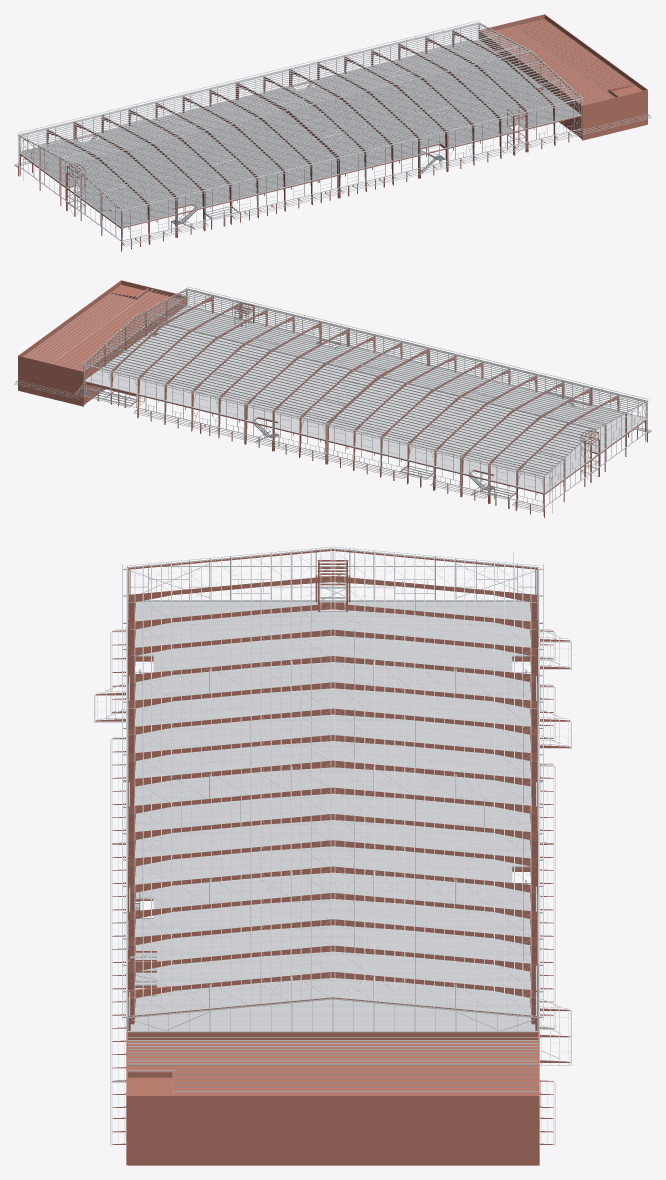
Rendered from xinhai-tekla.glb.
3 views of the same model, one above another, from view 1: azimuth 30°, elevation 25°; view 2: azimuth 150°, elevation 25°; view 3: azimuth 270°, elevation 25° (orthographic). The views are drawn at different scales.
Parts seen in each view (by area): view 1: TK|keo|19, TK|giang|0, TK|giang|9, TK|giang|17, TK|deck|1, TK|giang|4, TK|giang|13, TK|giang|15, TK|giang|1, TK|deck|11, TK|giang|3, TK|giang|16 (+32 smaller); view 2: TK|keo|19, TK|giang|0, TK|giang|9, TK|giang|10, TK|giang|17, TK|deck|1, TK|giang|4, TK|giang|1, TK|giang|13, TK|deck|11, TK|giang|16, TK|giang|2 (+32 smaller); view 3: TK|keo|19, TK|deck|16, TK|deck|1, TK|deck|11, TK|deck|7, TK|deck|4, TK|deck|5, TK|deck|13, TK|deck|3, TK|deck|10, TK|deck|9, TK|deck|0 (+43 smaller).
Part boxes in pixels (left/top/right/bottom): TK|keo|19: left=480, top=14, right=649, bottom=140; TK|giang|0: left=14, top=126, right=156, bottom=246; TK|giang|9: left=20, top=23, right=581, bottom=210; TK|giang|17: left=444, top=21, right=586, bottom=140; TK|deck|1: left=46, top=139, right=175, bottom=220; TK|giang|4: left=121, top=99, right=264, bottom=219; TK|giang|13: left=343, top=47, right=479, bottom=166; TK|giang|15: left=397, top=34, right=533, bottom=153; TK|giang|1: left=39, top=119, right=181, bottom=239; TK|deck|11: left=288, top=79, right=417, bottom=161; TK|giang|3: left=93, top=106, right=239, bottom=229; TK|giang|16: left=417, top=27, right=558, bottom=147; TK|keo|19: left=16, top=280, right=185, bottom=406; TK|giang|0: left=509, top=392, right=651, bottom=512; TK|giang|9: left=83, top=289, right=645, bottom=493; TK|giang|10: left=136, top=333, right=420, bottom=476; TK|giang|17: left=75, top=287, right=216, bottom=403; TK|deck|1: left=490, top=405, right=619, bottom=486; TK|giang|4: left=399, top=365, right=538, bottom=490; TK|giang|1: left=480, top=385, right=619, bottom=508; TK|giang|13: left=186, top=313, right=322, bottom=432; TK|deck|11: left=246, top=346, right=377, bottom=427; TK|giang|16: left=103, top=293, right=241, bottom=411; TK|giang|2: left=434, top=379, right=591, bottom=498; TK|keo|19: left=112, top=1032, right=553, bottom=1165; TK|deck|16: left=128, top=997, right=537, bottom=1023; TK|deck|1: left=131, top=627, right=534, bottom=656; TK|deck|11: left=135, top=864, right=529, bottom=893; TK|deck|7: left=128, top=786, right=537, bottom=812; TK|deck|4: left=128, top=708, right=537, bottom=734; TK|deck|5: left=128, top=734, right=537, bottom=760; TK|deck|13: left=128, top=919, right=537, bottom=945; TK|deck|3: left=128, top=682, right=537, bottom=708; TK|deck|10: left=128, top=838, right=530, bottom=864; TK|deck|9: left=128, top=812, right=537, bottom=838; TK|deck|0: left=128, top=601, right=537, bottom=627.
Bounding box in the file's own units: 160 × 15.24 × 62.96.
